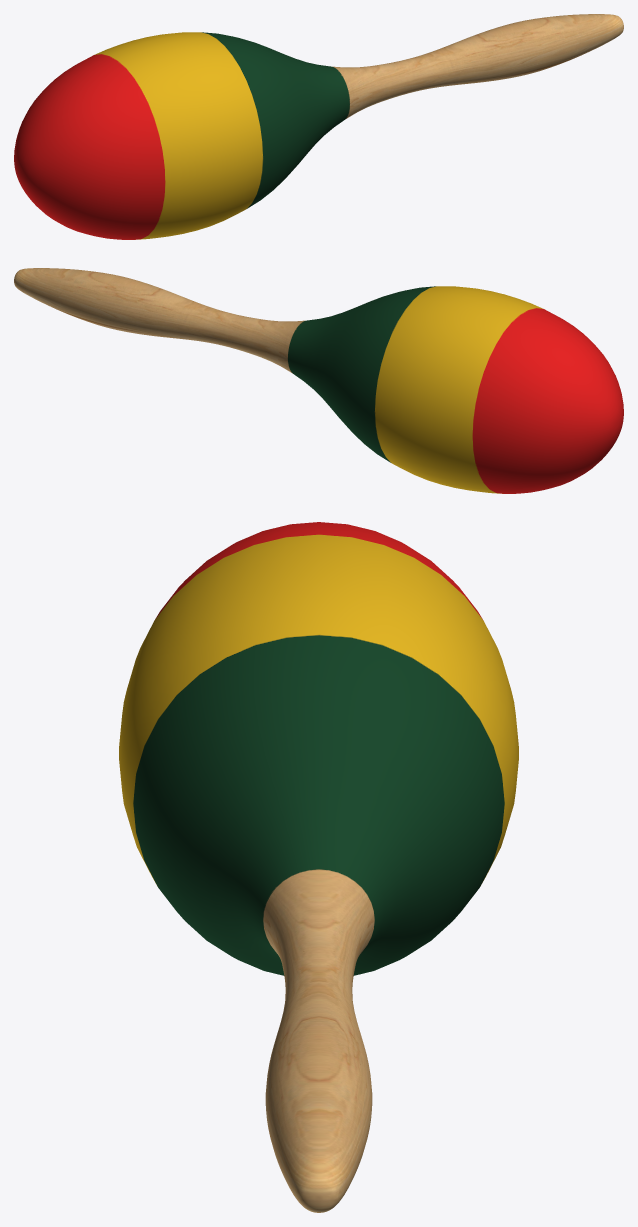
Rendered from maracas_02.obj.
The picture shows the model from 3 angles, top to bottom: view 1: azimuth 30°, elevation 25°; view 2: azimuth 150°, elevation 25°; view 3: azimuth 270°, elevation 25°; orthographic projection. The views are drawn at different scales.
Visible parts, largest first — view 1: m_2_body; view 2: m_2_body; view 3: m_2_body.
Part boxes in pixels (left/top/right/bottom): m_2_body: left=14, top=14, right=623, bottom=239; m_2_body: left=14, top=268, right=623, bottom=493; m_2_body: left=119, top=522, right=518, bottom=1212.
Size of the model in its own units: 27.44 by 7.91 by 7.91.
